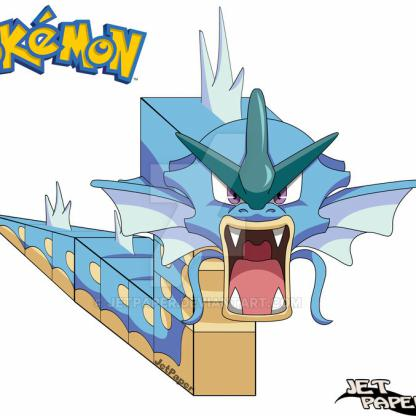Gyarados: (1, 80, 416, 380)
